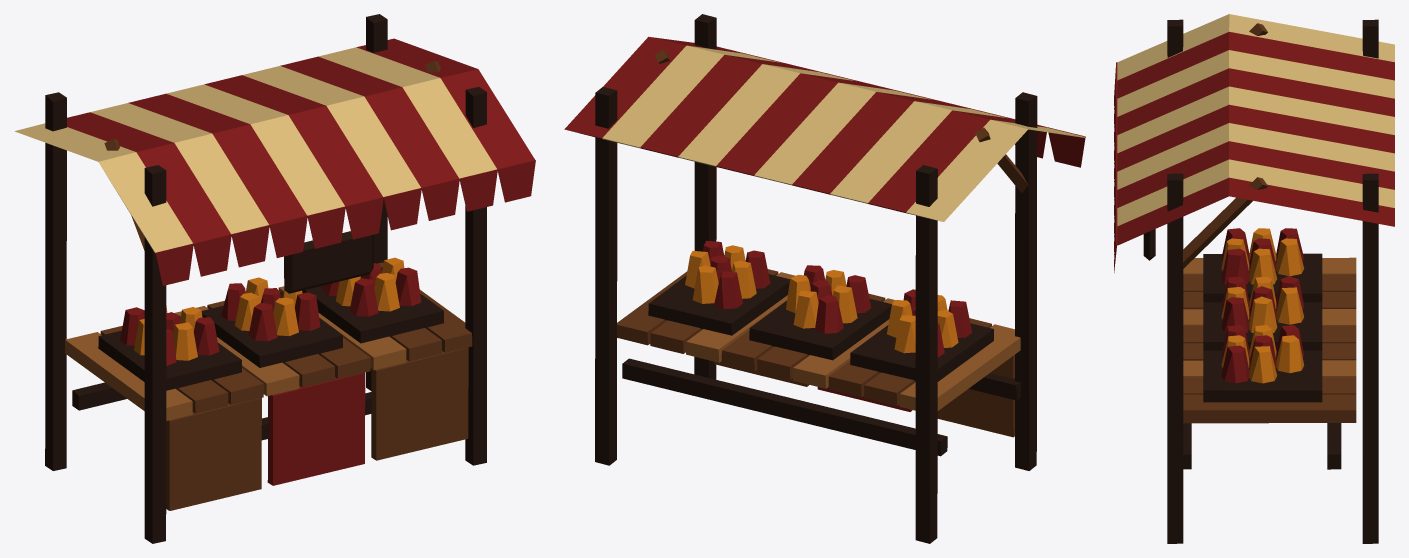
File: Banca_de_frutas_LOD1.fbx
3 renders of one model, left to right at view 1: azimuth 30°, elevation 25°; view 2: azimuth 150°, elevation 25°; view 3: azimuth 270°, elevation 25°, orthographic.
Visible parts, largest first — view 1: Banca_de_frutas_LOD1; view 2: Banca_de_frutas_LOD1; view 3: Banca_de_frutas_LOD1.
Part boxes in pixels (<box>): Banca_de_frutas_LOD1: <box>14,14,535,543</box>; Banca_de_frutas_LOD1: <box>564,14,1085,543</box>; Banca_de_frutas_LOD1: <box>1114,14,1394,543</box>.
Size of the model in its own units: 320 by 298 by 208.
1 material, 1 textured.
